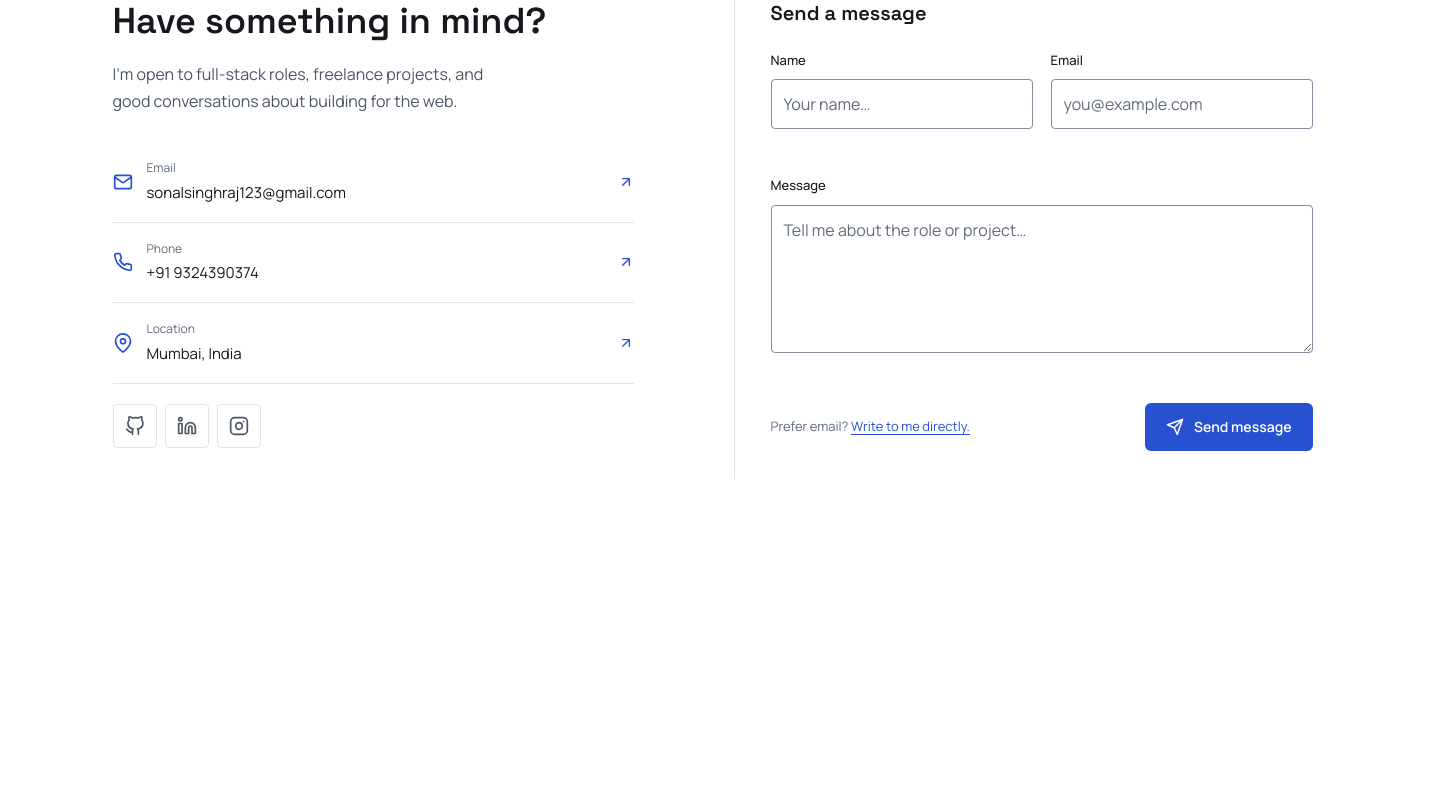
Test: contact prevents duplicate submissions and returns focus after confirmation
The image size is (1440, 810).
Step 1. Type "UI Test" into the field labelled "Name" → (902, 104), box left=770, top=79, right=1032, bottom=129
Step 2. Type "ui-test@example.com" into the field labelled "Email" → (1182, 104), box left=1050, top=79, right=1312, bottom=129
Step 3. Type "Testing the local contact interface." into the text box labelled "Message" → (1042, 279), box left=770, top=205, right=1312, bottom=353
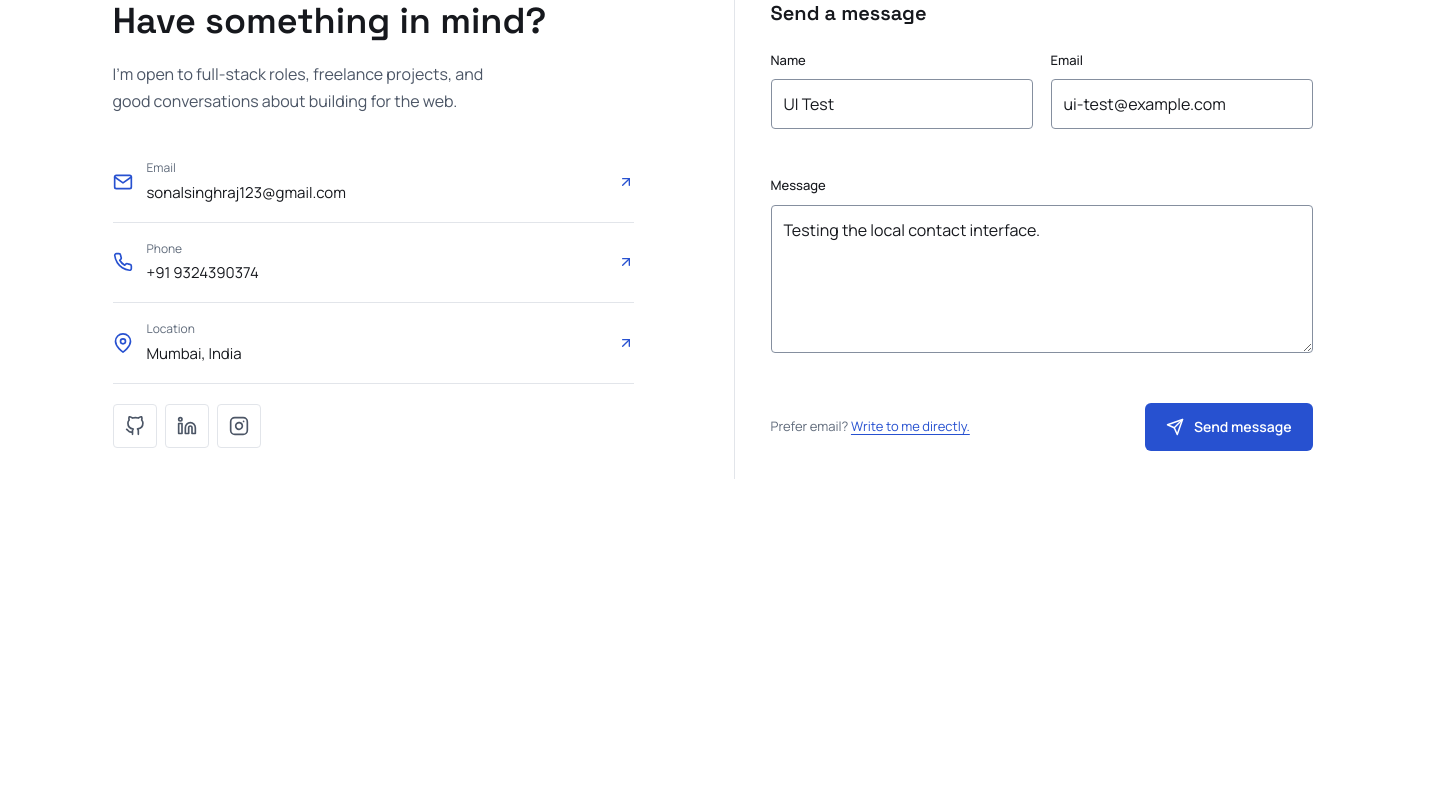
Step 4. Click the button "Send message" → (1229, 427), box left=1145, top=403, right=1312, bottom=451
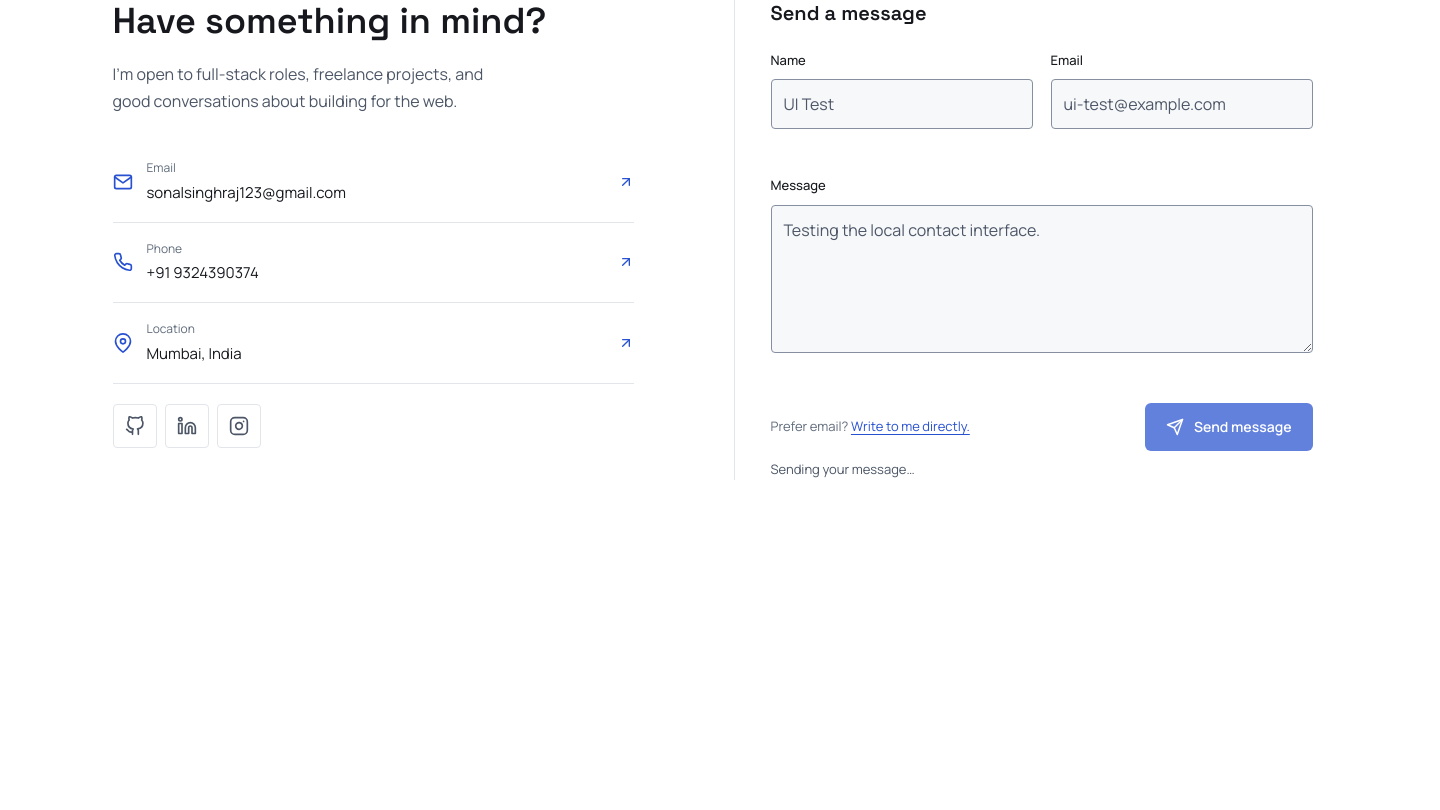
Now the button "Send message" is disabled, box left=1145, top=403, right=1312, bottom=451
Now the message shows "Sending", box left=770, top=460, right=915, bottom=478
Step 5. Submit the form named "Send message", box left=734, top=0, right=1312, bottom=480
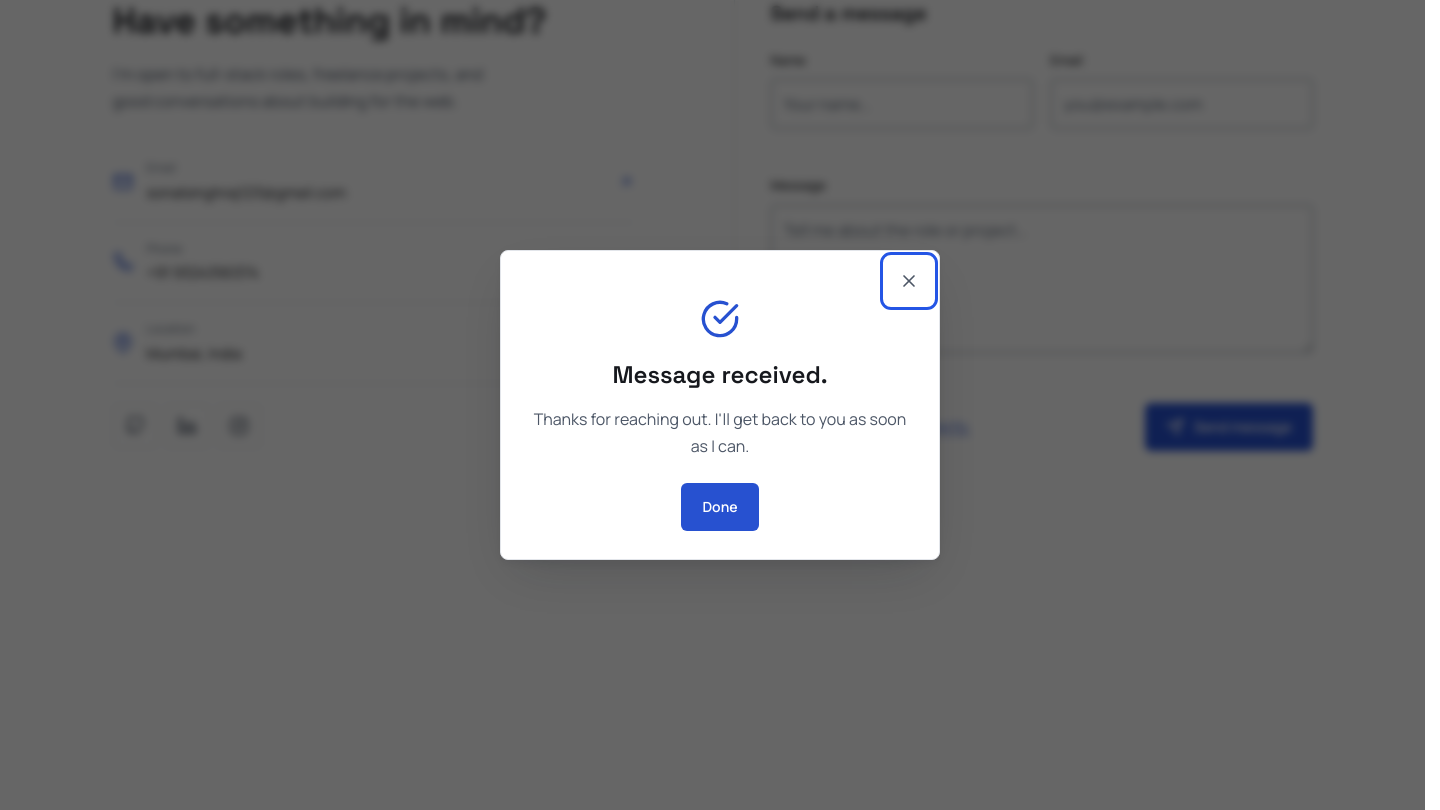
Now the dialog is shown, box left=500, top=250, right=940, bottom=560
Step 6. Press Tab in the button named "Close message confirmation", box left=887, top=259, right=931, bottom=303
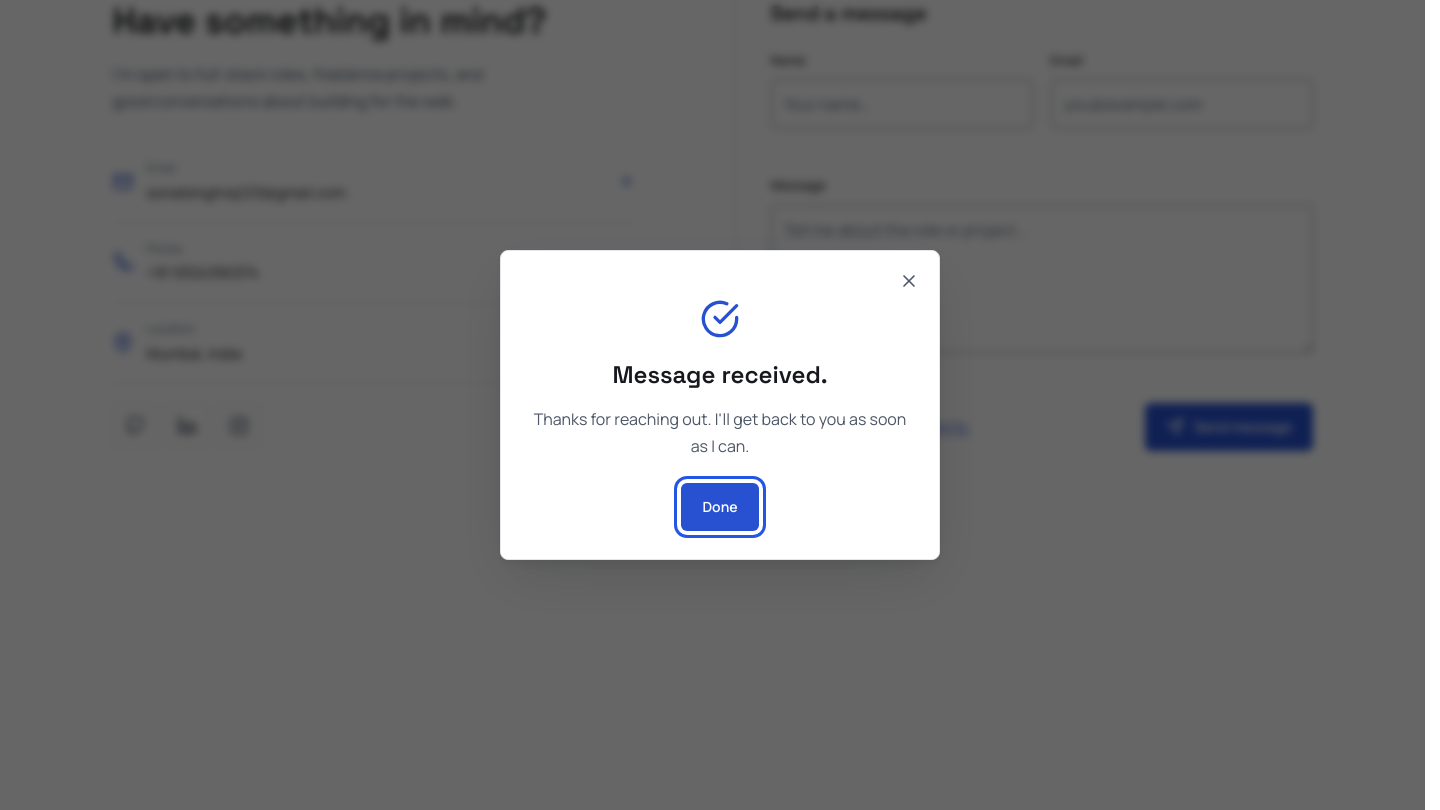
Step 7. Press Tab in the button "Done", box left=682, top=483, right=759, bottom=531
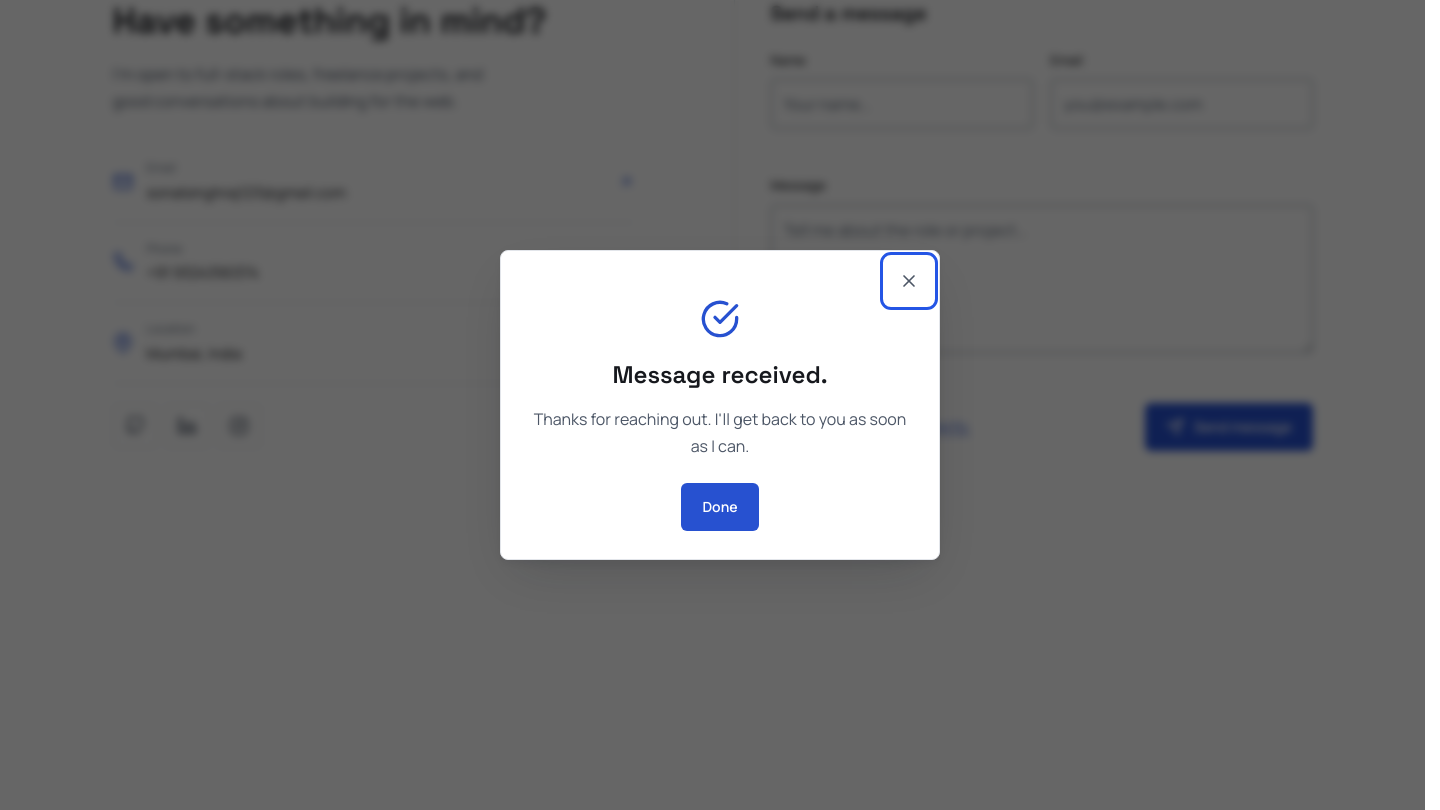
Expected: the field labelled "Name" is empty, left=770, top=79, right=1032, bottom=129
Step 8. Click the button "Done" → (720, 507), box left=682, top=483, right=759, bottom=531
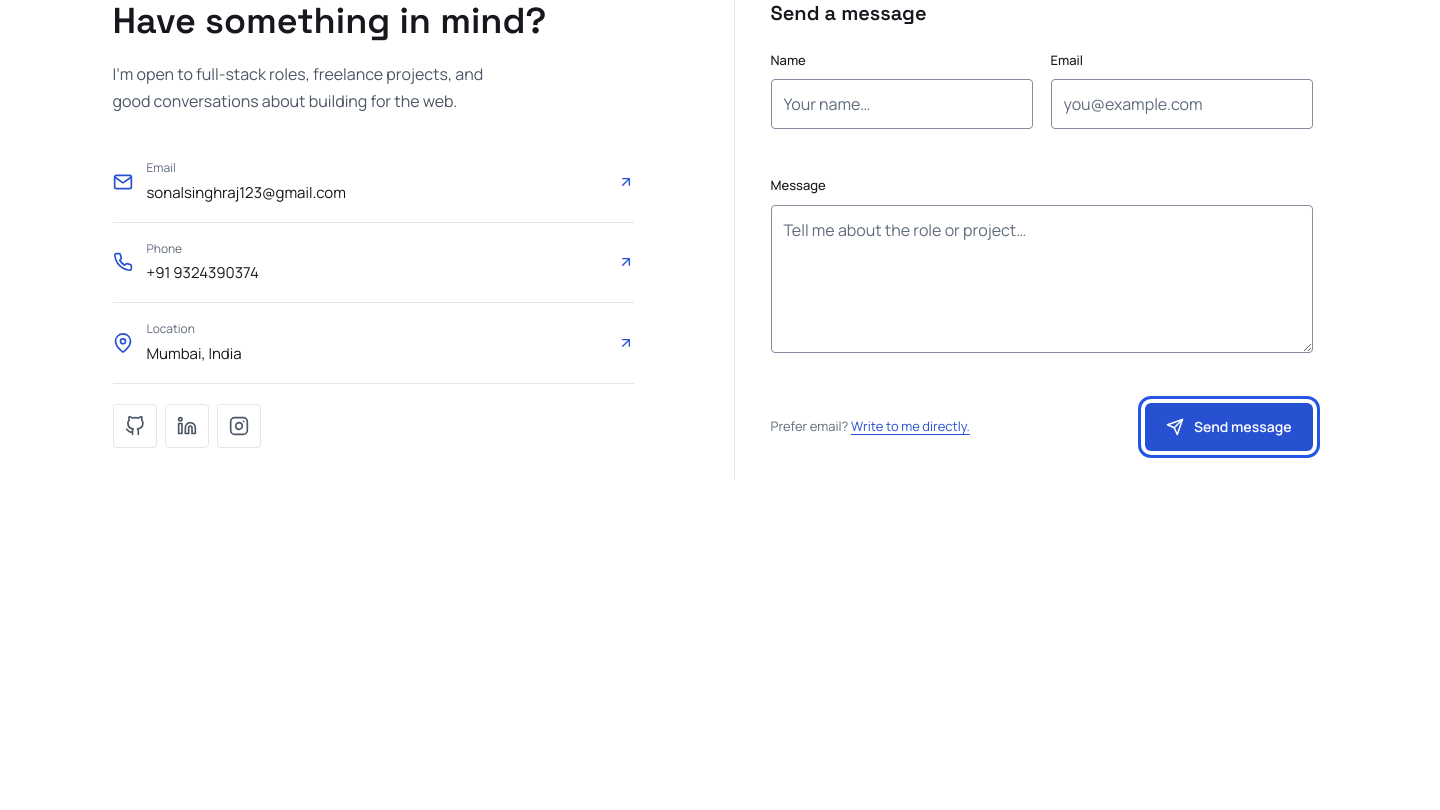
Now the dialog is gone
